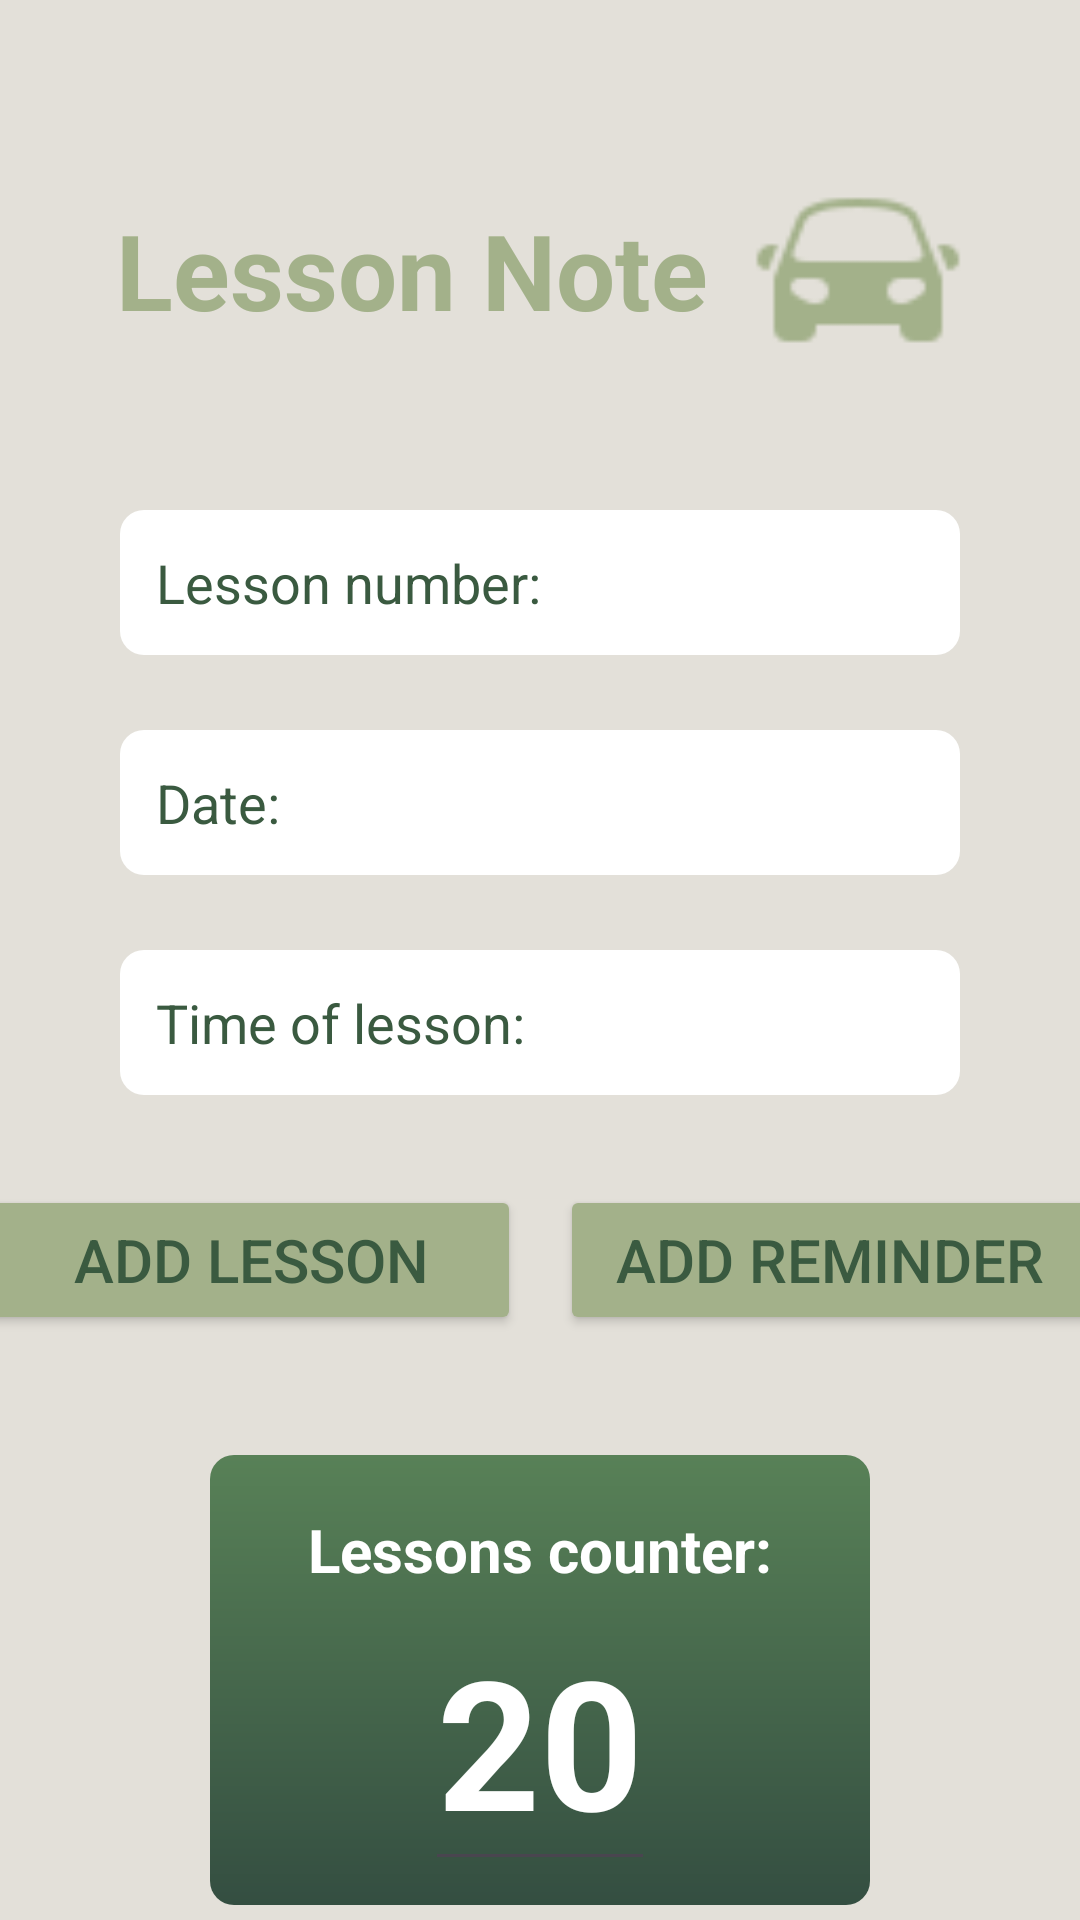

Screen size 1080 x 1920. Icon name, then its box in pixels as (x1, y1, x2, y2):
car: (756, 198, 960, 342)
